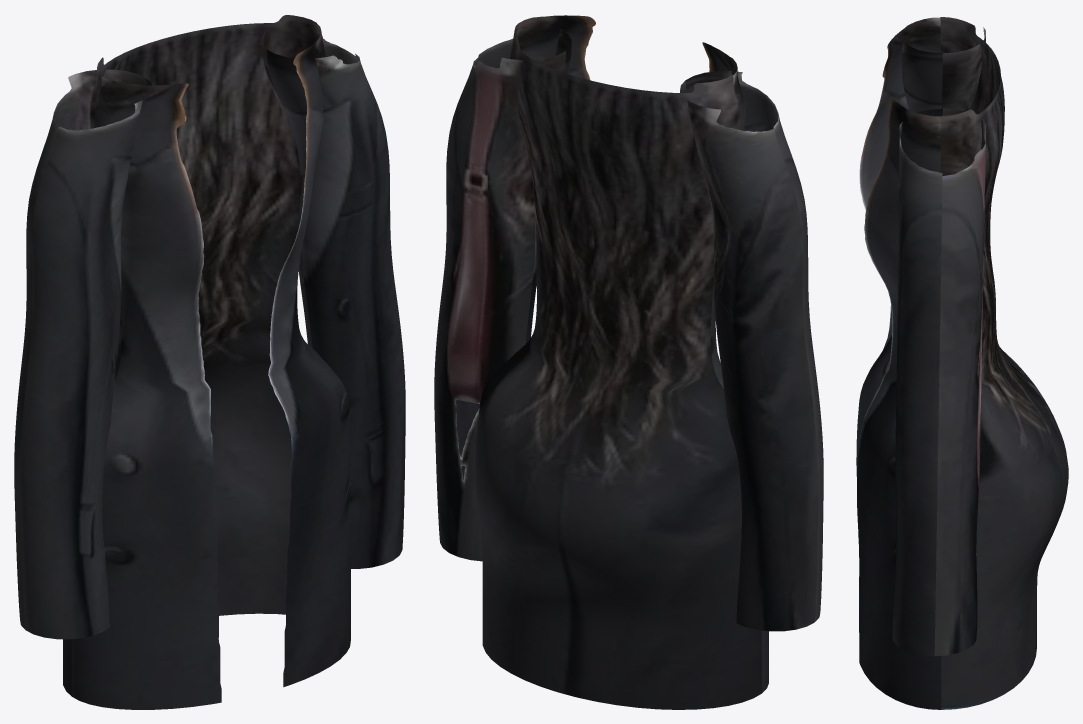
File: prod-ae-noir-tailored-blazer.glb
3 views of the same model, side by side, from view 1: azimuth 30°, elevation 25°; view 2: azimuth 150°, elevation 25°; view 3: azimuth 270°, elevation 25° (orthographic). The views are drawn at different scales.
Visible parts, largest first — view 1: prod-ae-noir-tailored-blazer; view 2: prod-ae-noir-tailored-blazer; view 3: prod-ae-noir-tailored-blazer.
Boxes of the visible parts, x1,y1,x2,y2 form: prod-ae-noir-tailored-blazer: [14, 15, 405, 709]; prod-ae-noir-tailored-blazer: [434, 15, 823, 709]; prod-ae-noir-tailored-blazer: [856, 17, 1068, 709].
Size of the model in its own units: 0.4262 by 0.6575 by 0.2221.
Materials: 1 (1 with a texture image).
